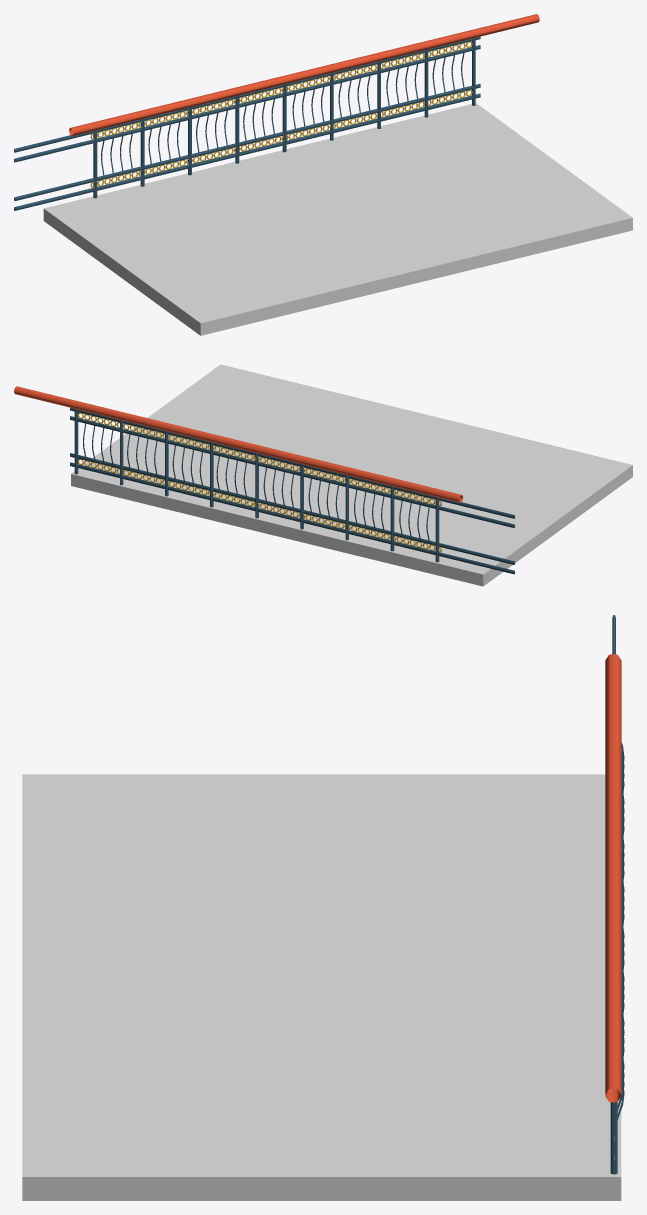
The model's file is balcony.fbx.
3 renders of one model, top to bottom at view 1: azimuth 30°, elevation 25°; view 2: azimuth 150°, elevation 25°; view 3: azimuth 270°, elevation 25°, orthographic. The views are drawn at different scales.
Parts seen in each view (by area): view 1: Cube, Cylinder.003, Cylinder, Cylinder.002, Cylinder.001, Cylinder.004, Torus.001, Torus, Cylinder.005; view 2: Cube, Cylinder.003, Cylinder, Cylinder.001, Cylinder.004, Cylinder.002, Torus.001, Torus, Cylinder.005; view 3: Cube, Cylinder.003.
Boxes of the visible parts, box(x1,y1,x2,y2) form: Cube: box(43, 103, 632, 335); Cylinder.003: box(69, 14, 539, 135); Cylinder: box(93, 38, 475, 198); Cylinder.002: box(14, 83, 480, 200); Cylinder.001: box(14, 93, 480, 210); Cylinder.004: box(14, 45, 480, 162); Torus.001: box(90, 41, 472, 139); Torus: box(90, 90, 472, 187); Cylinder.005: box(14, 36, 480, 152); Cube: box(71, 364, 632, 586); Cylinder.003: box(14, 386, 463, 502); Cylinder: box(74, 409, 439, 562); Cylinder.001: box(70, 462, 515, 574); Cylinder.004: box(70, 416, 514, 527); Cylinder.002: box(70, 453, 514, 564); Torus.001: box(77, 412, 441, 506); Torus: box(77, 459, 441, 552); Cylinder.005: box(70, 407, 515, 518); Cube: box(22, 774, 621, 1200); Cylinder.003: box(605, 654, 621, 1102).
Size of the model in its own units: 642 by 103 by 336.
